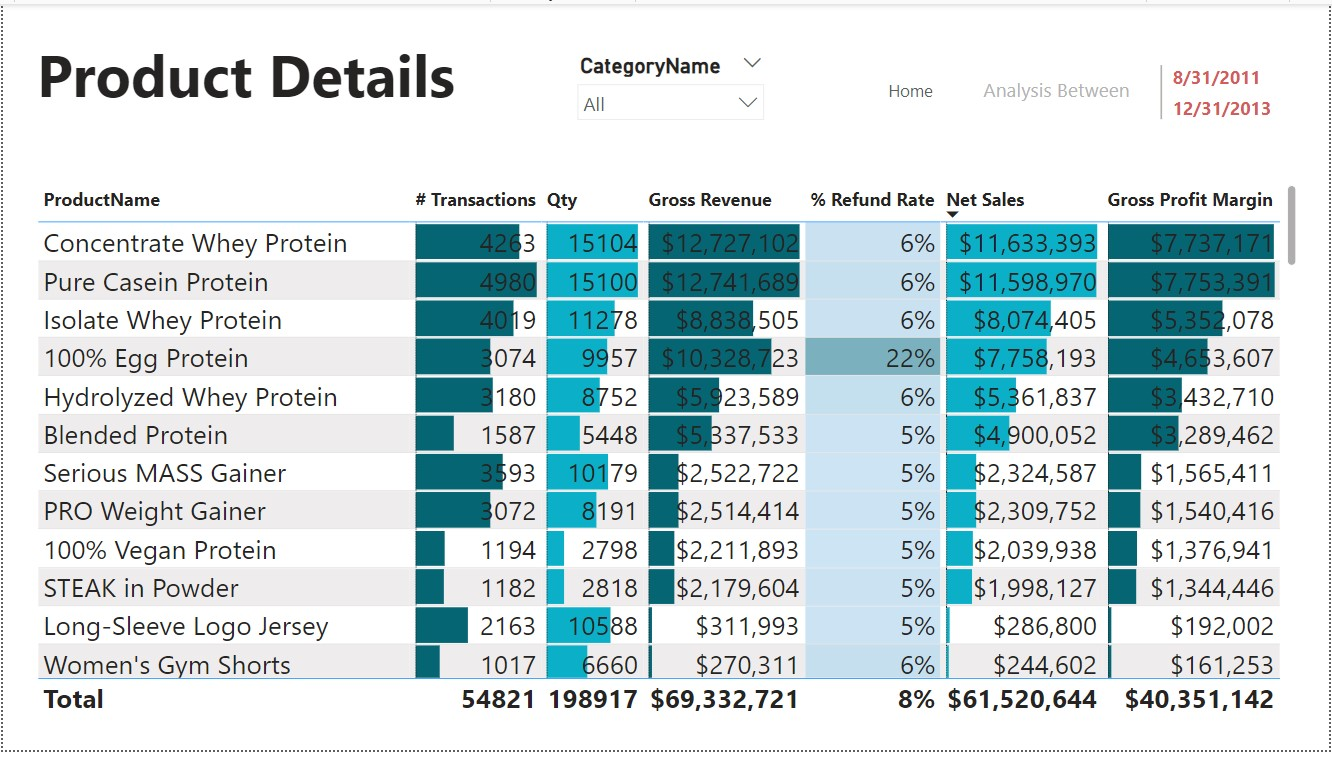

The page's visual inventory and layout, read from the dashboard file:
{"tool":"powerbi","page":{"name":"Product","canvas":[1280,720],"ordinal":5},"visuals":[{"type":"tableEx","fields":{"Values":["LookUp_Products.ProductName","All Measures.# Transactions","All Measures.Qty","All Measures.Gross Revenue","All Measures.% Refund Rate","All Measures.Net Sales","All Measures.Gross Profit Margin"]},"box":[27.7,170.1,1225.3,522.2],"z":0},{"type":"textbox","box":[27.7,24.1,516.2,117],"z":1000},{"type":"slicer","fields":{"Values":["LookUp_ProductCategory.CategoryName"]},"box":[543.9,42.2,200.2,73.6],"z":2000},{"type":"actionButton","box":[826.1,62.7,98.9,41],"z":3000},{"type":"textbox","box":[940.7,65.1,182.1,38.6],"z":4000},{"type":"multiRowCard","fields":{"Values":["All Measures.First Date","All Measures.Last Date"]},"box":[1112,54.3,120.6,77.2],"z":5000}]}

Visuals, with their boxes in screenshot pixels (x1, y1, x2, y2), scaled from the page's 1280x720 canvas onto the 1332x757 screenshot:
tableEx - LookUp_Products.ProductName x All Measures.# Transactions: detection(29, 179, 1304, 728)
textbox: detection(29, 25, 566, 148)
slicer - LookUp_ProductCategory.CategoryName: detection(566, 44, 774, 122)
actionButton: detection(860, 66, 963, 109)
textbox: detection(979, 68, 1168, 109)
multiRowCard - All Measures.First Date x All Measures.Last Date: detection(1157, 57, 1283, 138)
